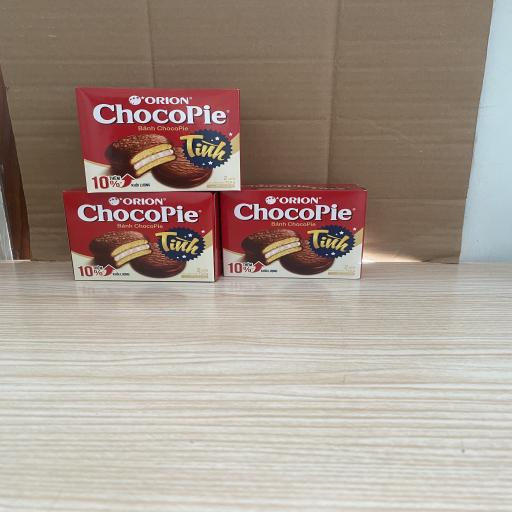chocopie: (74, 88, 240, 192), (62, 188, 219, 282), (219, 183, 368, 279)
